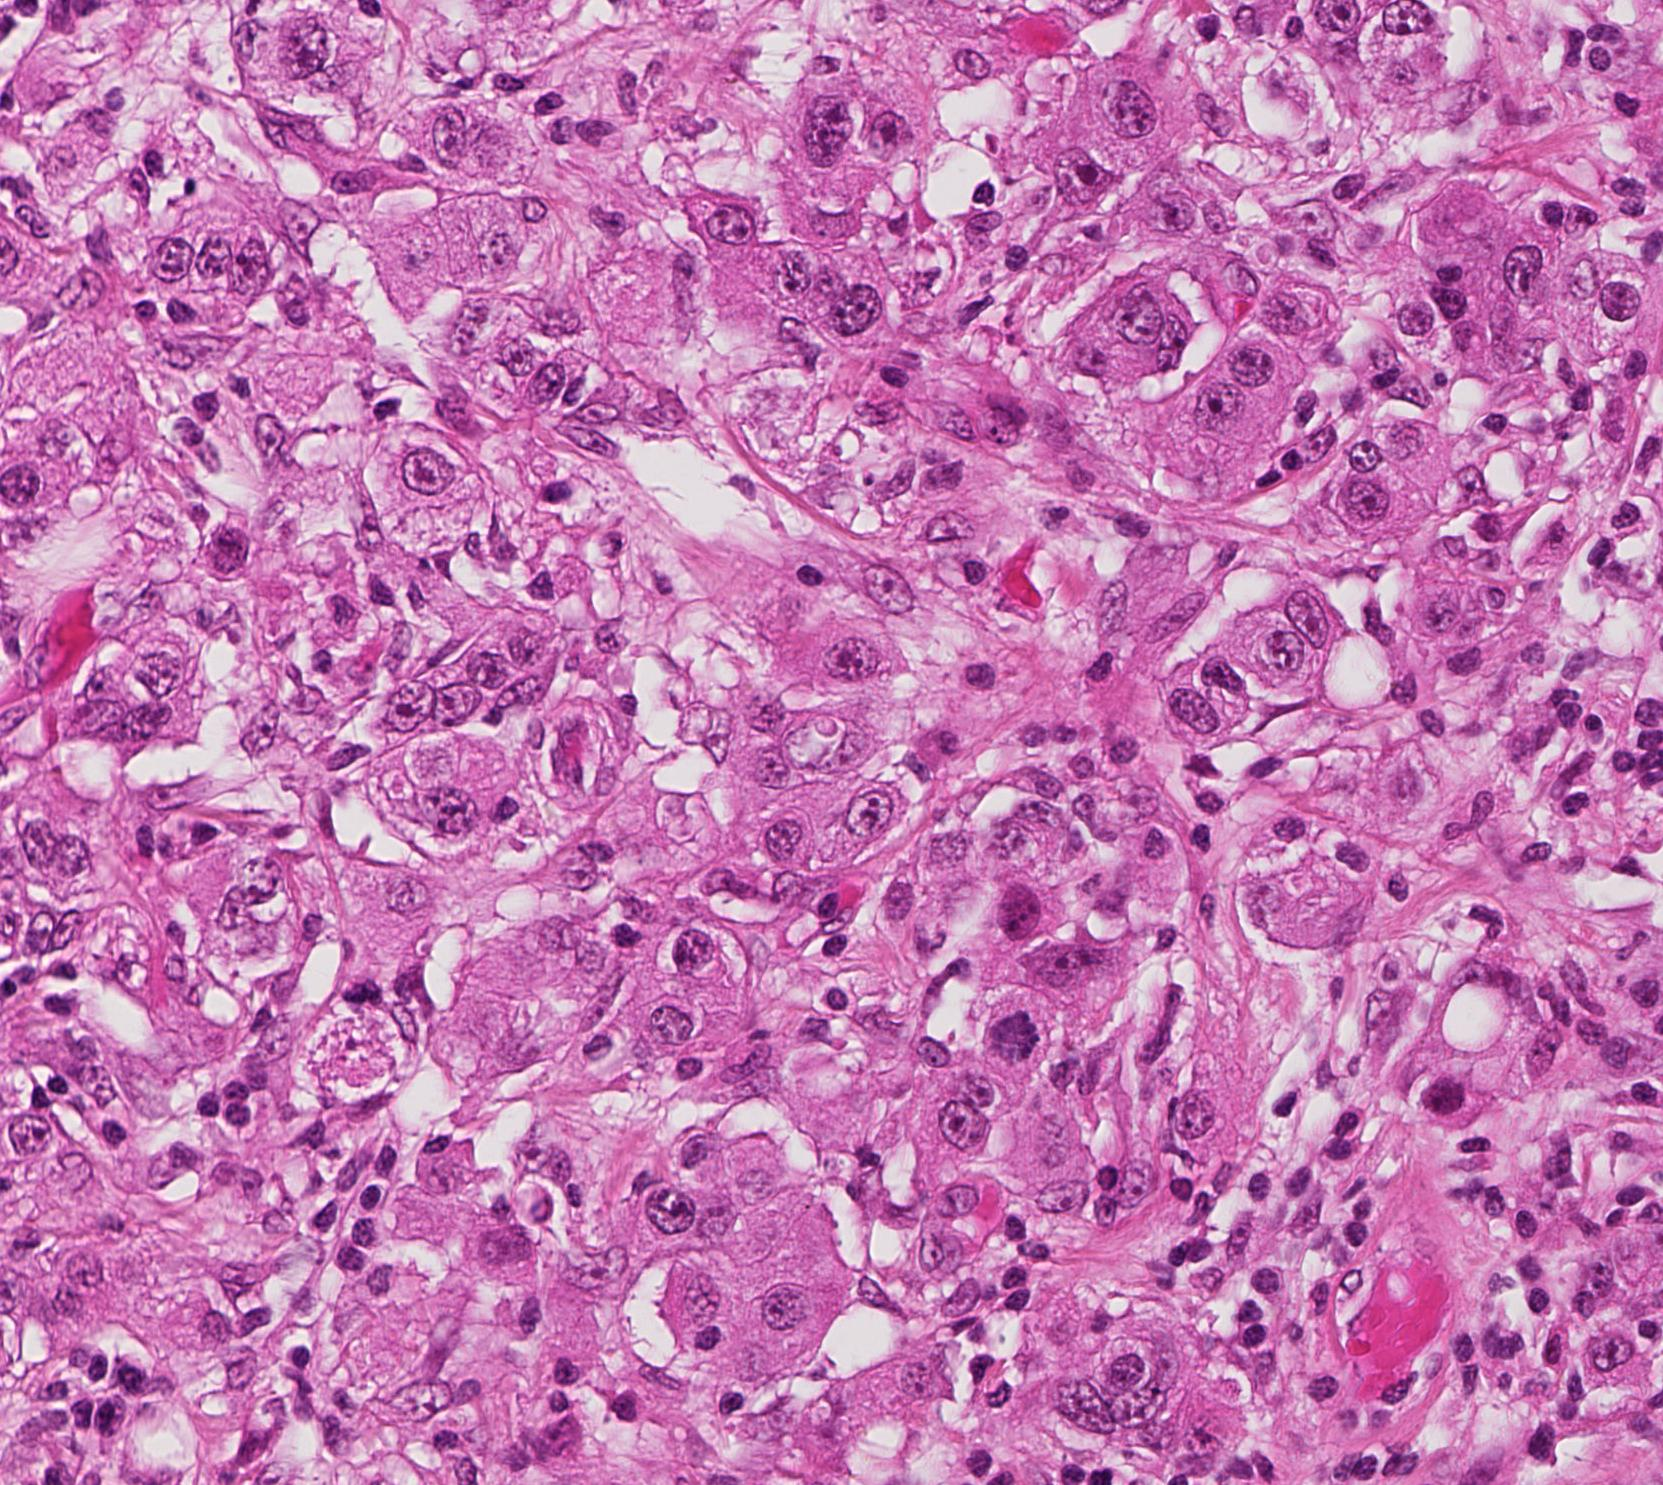mitosis: (985, 1006, 1045, 1066), (1419, 1069, 1479, 1130)
